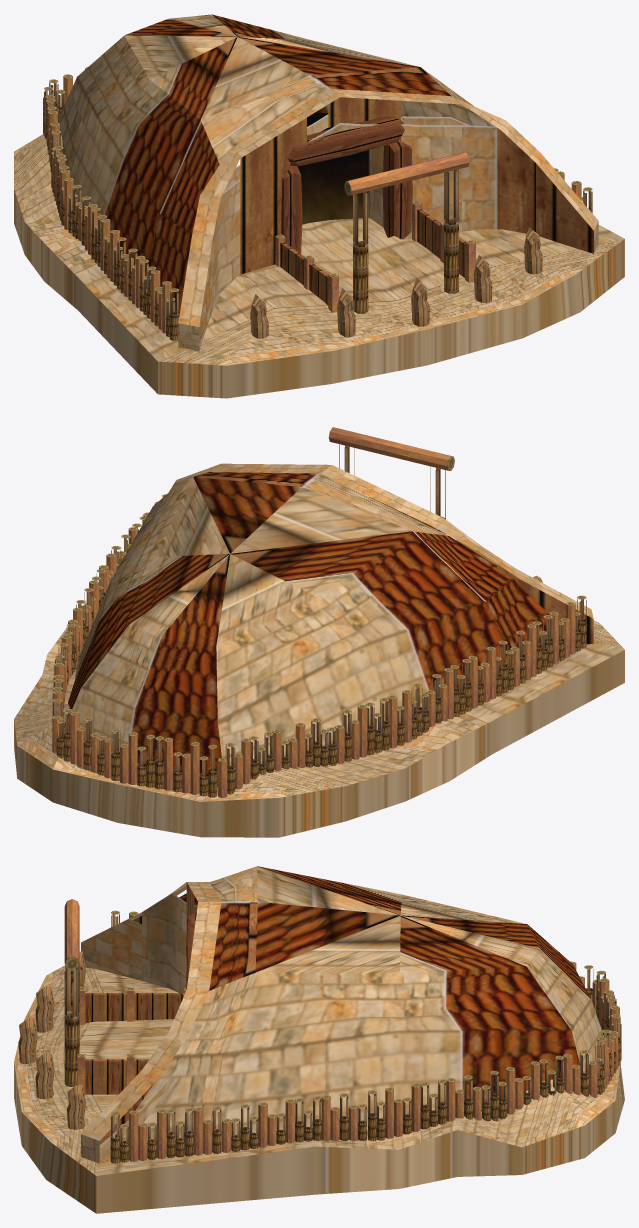
The model's file is editor_burial_mound.dae.
The picture shows the model from 3 angles, top to bottom: view 1: azimuth 30°, elevation 25°; view 2: azimuth 150°, elevation 25°; view 3: azimuth 270°, elevation 25°; orthographic projection.
Visible parts, largest first — view 1: editor_burial_mound; view 2: editor_burial_mound; view 3: editor_burial_mound.
Boxes of the visible parts, x1,y1,x2,y2 form: editor_burial_mound: [14, 14, 624, 398]; editor_burial_mound: [14, 427, 624, 837]; editor_burial_mound: [14, 866, 624, 1213].
Size of the model in its own units: 24.54 by 27.71 by 9.93.
